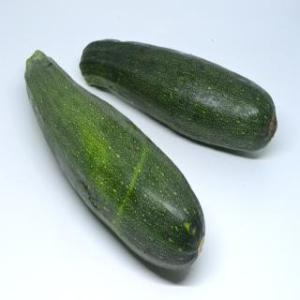zucchini: (79, 30, 280, 120)
